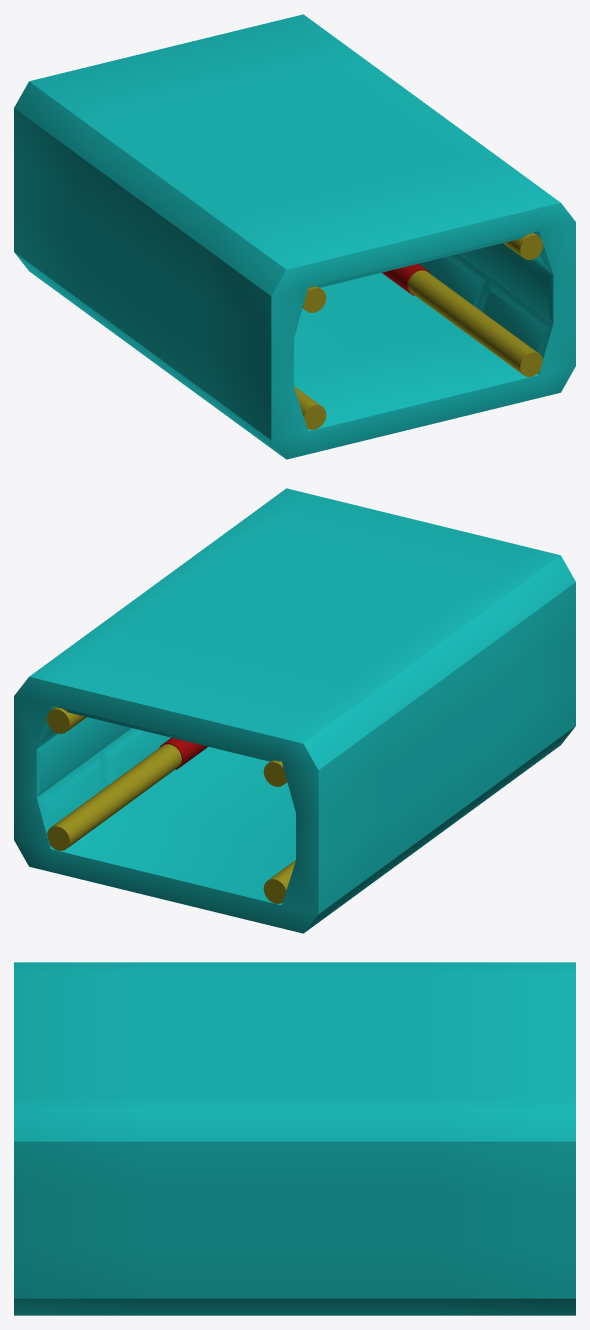
Rendered from straight.fbx.
3 renders of one model, top to bottom at view 1: azimuth 30°, elevation 25°; view 2: azimuth 150°, elevation 25°; view 3: azimuth 270°, elevation 25°, orthographic. The views are drawn at different scales.
Parts seen in each view (by area): view 1: Box051; view 2: Box051; view 3: Box051.
Boxes of the visible parts, x1,y1,x2,y2 form: Box051: (14, 14, 575, 459); Box051: (14, 488, 575, 933); Box051: (14, 962, 575, 1315).
Bounding box in the file's own units: 2791 × 1663 × 4085.
